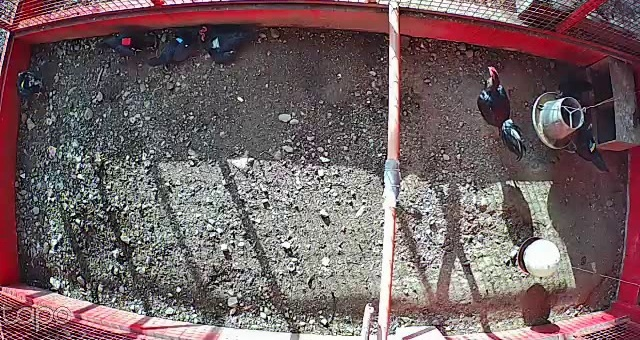Chicken: (555, 115, 620, 183), (85, 22, 162, 67), (194, 20, 254, 74), (144, 22, 203, 67), (13, 69, 52, 103), (552, 78, 593, 100)
Rooster: (464, 57, 533, 156)
Saddle_Color_Blue: (174, 37, 187, 47)
Saddle_Color_Red: (120, 36, 134, 47)
Saddle_Color_Yellow: (21, 80, 25, 89)
Saddle_Color_YellowGreen: (586, 137, 596, 153)
